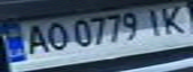0: (69, 16, 93, 47)
7: (87, 14, 109, 45), (103, 11, 124, 43)
9: (118, 9, 145, 42)
A: (15, 22, 54, 56)
I: (139, 6, 169, 37)
K: (154, 2, 193, 36)
O: (39, 20, 69, 52)
